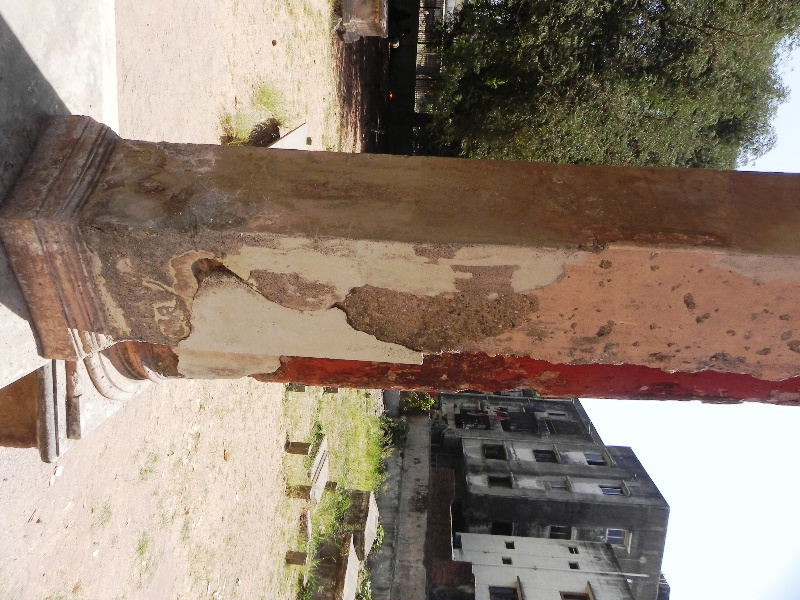Spalling: (331, 277, 536, 357), (185, 255, 238, 287)
